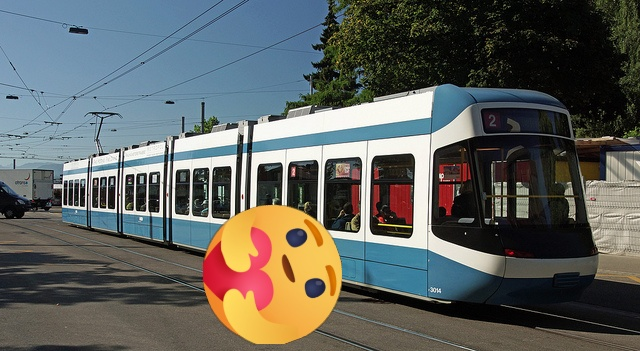care: (203, 205, 342, 344)
